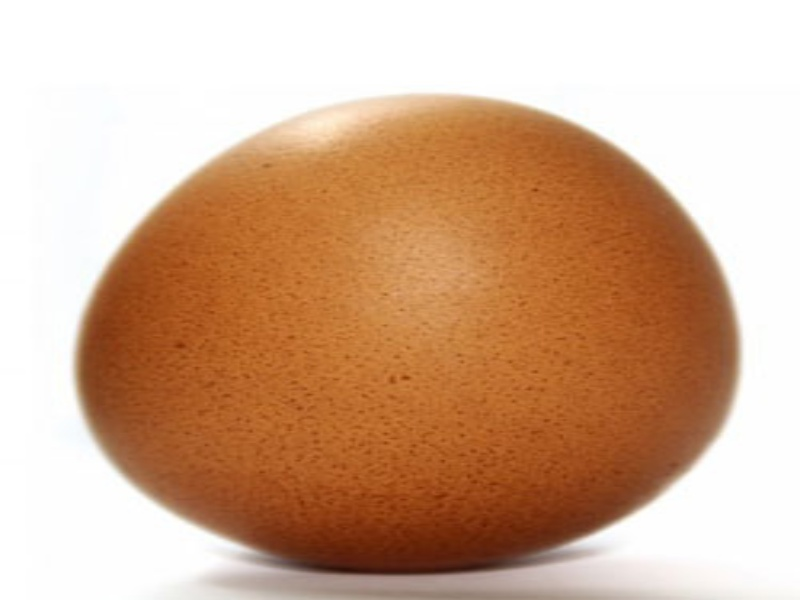Huevo: (73, 93, 742, 571)
